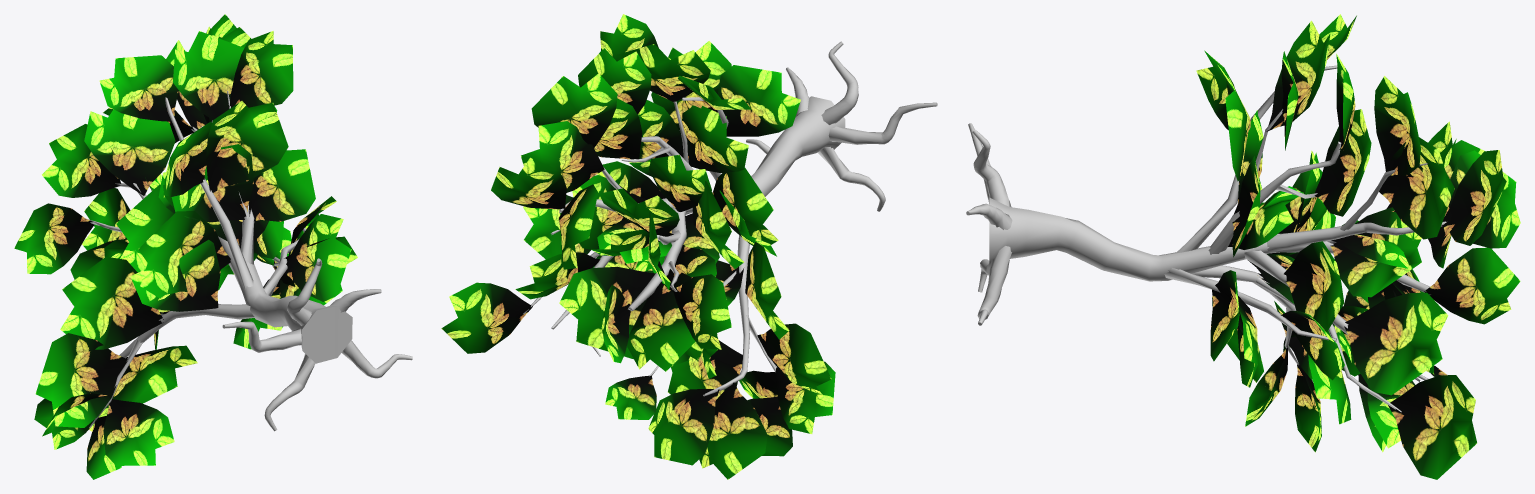
Rendered from tree2.fbx.
3 views of the same model, side by side, from view 1: azimuth 30°, elevation 25°; view 2: azimuth 150°, elevation 25°; view 3: azimuth 270°, elevation 25° (orthographic). The views are drawn at different scales.
Visible parts, largest first — view 1: tree; view 2: tree; view 3: tree.
Boxes of the visible parts, x1,y1,x2,y2 form: tree: [14, 14, 412, 479]; tree: [441, 14, 937, 479]; tree: [966, 14, 1520, 479].
Size of the model in its own units: 439 by 526 by 564.
